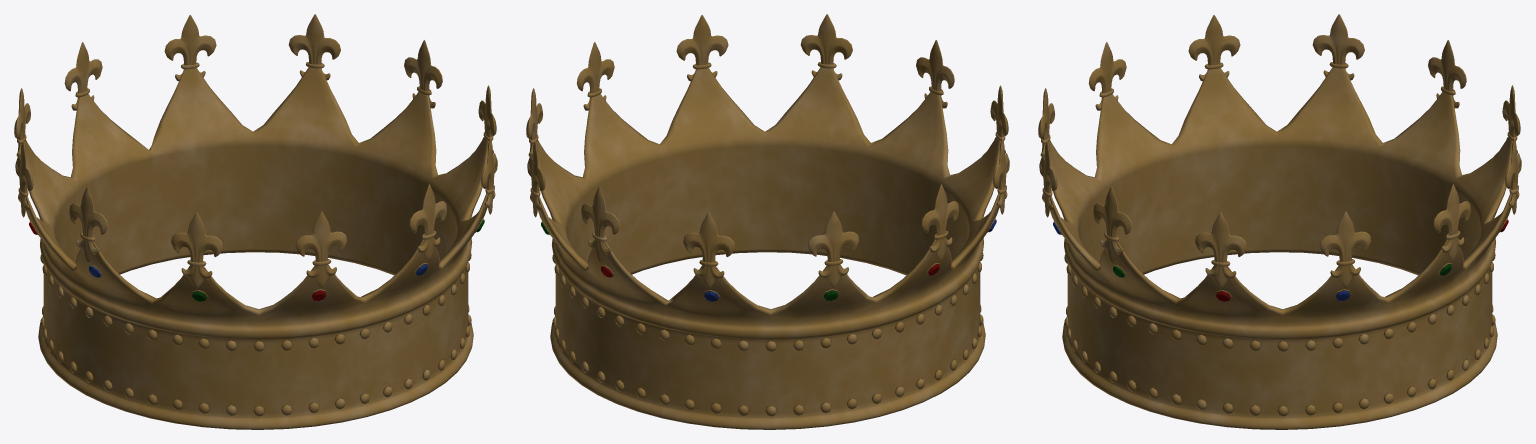
Rendered from crown.glb.
3 renders of one model, left to right at view 1: azimuth 30°, elevation 25°; view 2: azimuth 150°, elevation 25°; view 3: azimuth 270°, elevation 25°, orthographic.
Parts seen in each view (by area): view 1: crown; view 2: crown; view 3: crown.
Boxes of the visible parts, x1,y1,x2,y2 form: crown: [14, 14, 497, 429]; crown: [526, 14, 1009, 429]; crown: [1038, 14, 1521, 429].
Size of the model in its own units: 0.0827 by 0.0427 by 0.0827.
1 material, 1 textured.
